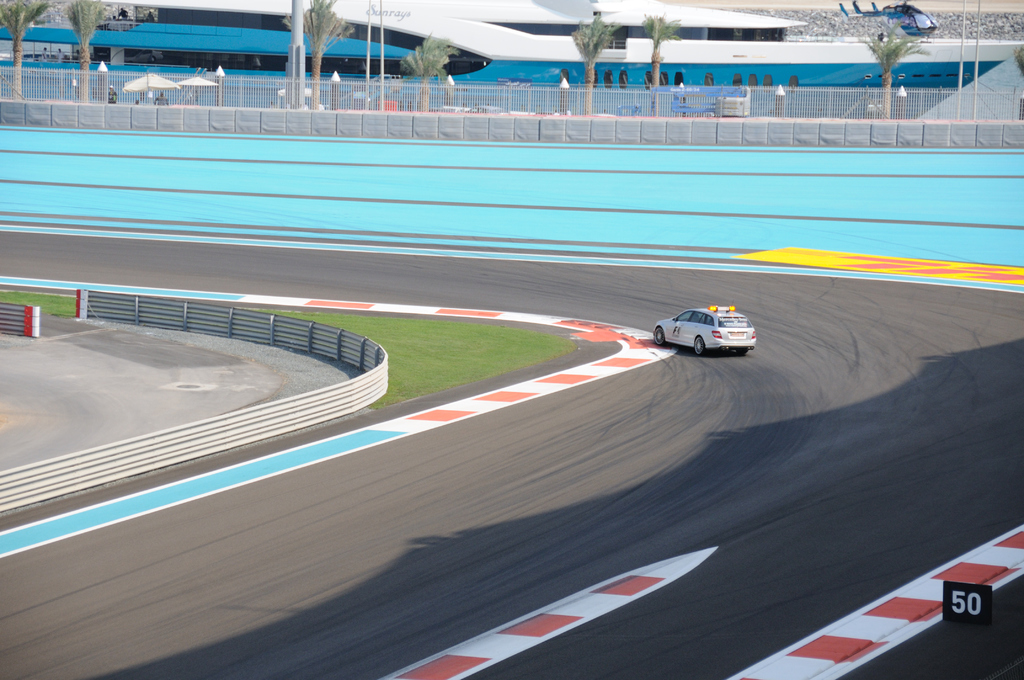Car: (654, 300, 759, 359)
